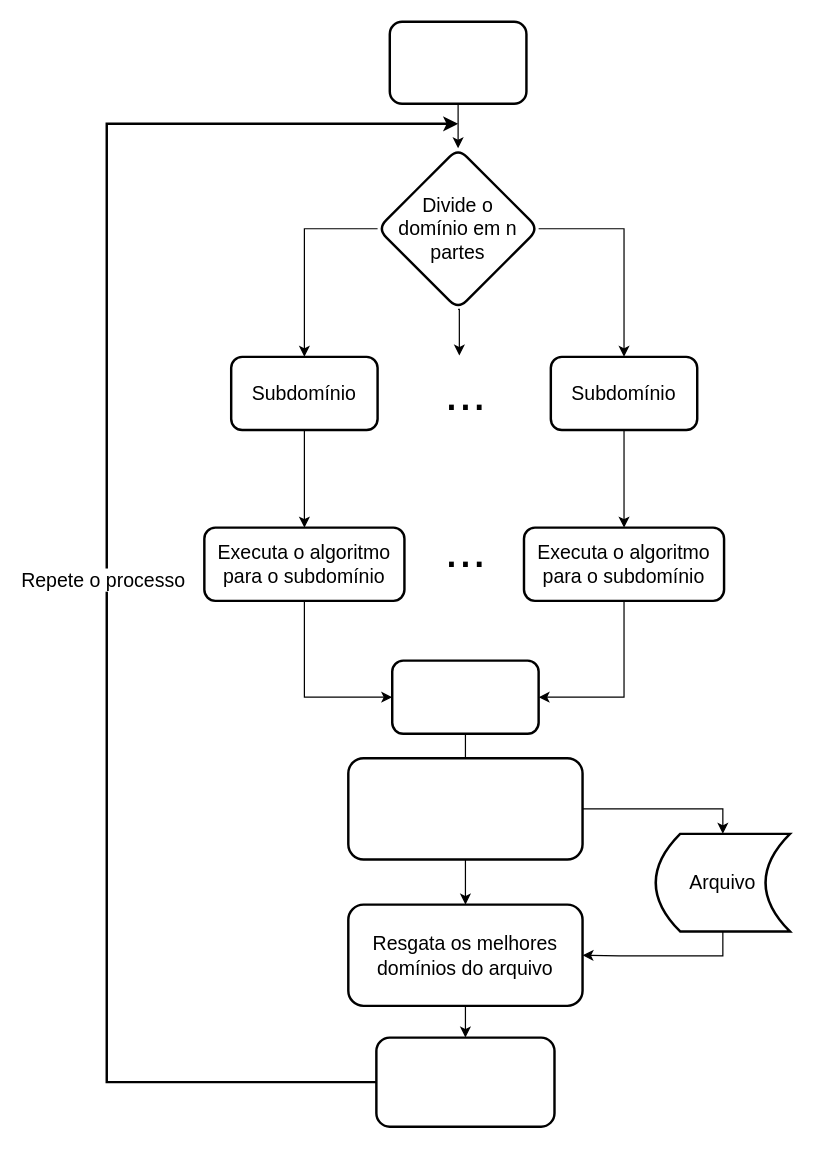
The diagram is 813 pixels wide and 1149 high, and some of its shapes have lost their labels. The centre of each missing label's shape, as x and y in pixels:
"Armazena os melhores domínios em um arquivo de saída" goes at pixel 464 808.
"Combina os melhores domínios" goes at pixel 465 1081.
"Problema" goes at pixel 457 62.
"Seleciona os os melhores domínios" goes at pixel 464 696.
